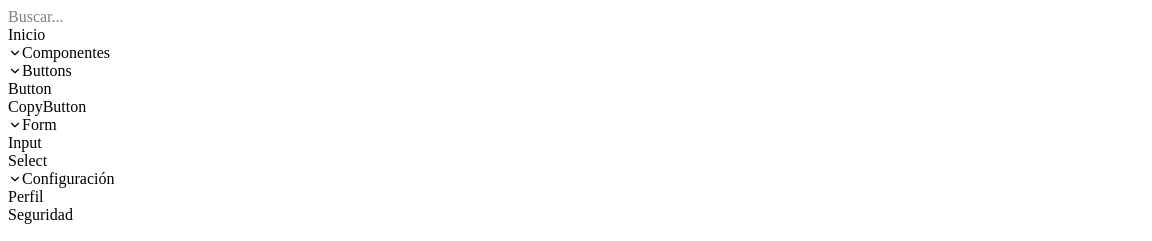
Test: Navbar › por defecto busca en toda la interfaz (no solo el label): matchea por path
In the field with placeholder "Buscar...": (576, 17) [8, 8, 1144, 26], type "/seguridad"
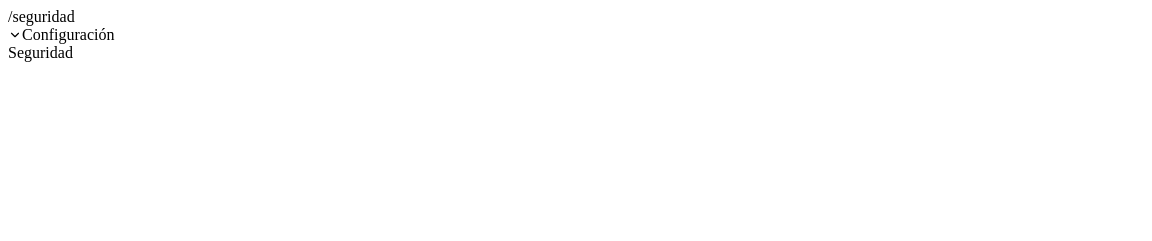
Expected: the text "Seguridad" is shown, [8, 44, 73, 61]
Now the text "Button" is gone
